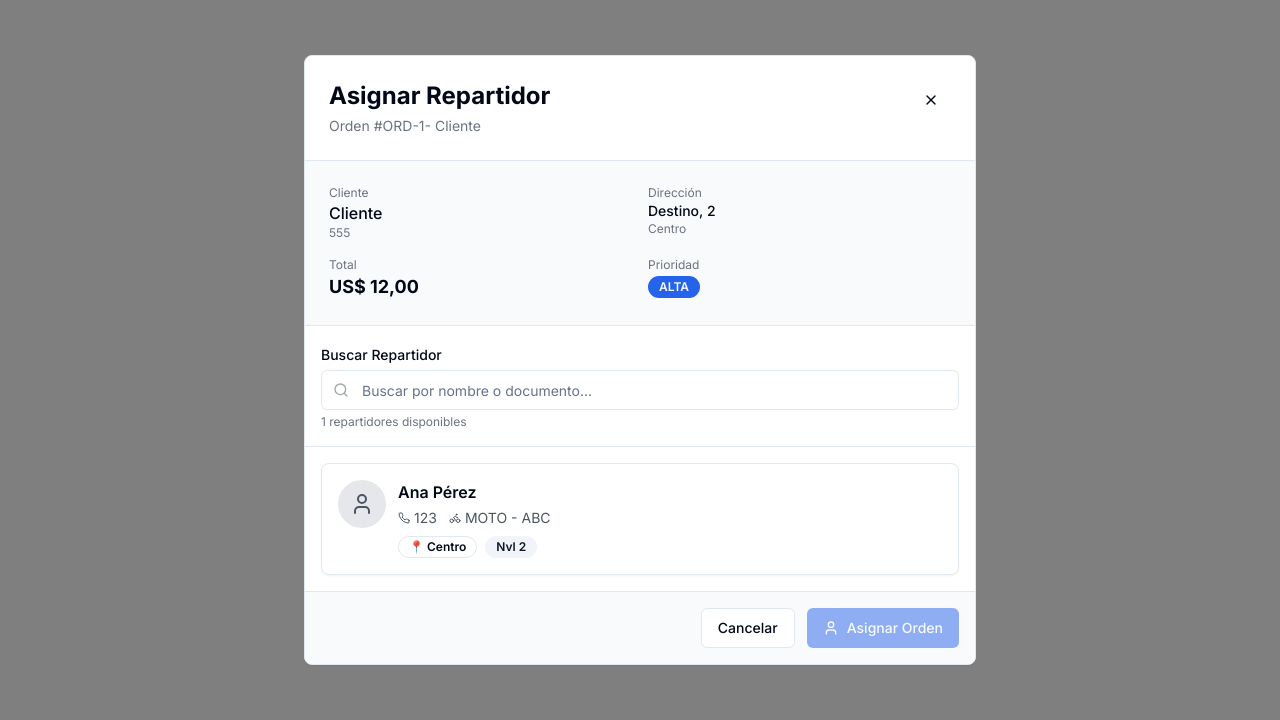
contains a synchronous assignment exception without claiming success
What coordinates should you click on to do the following:
click the button with aria-label "Seleccionar a Ana Pérez"
I would click on:
 (362, 504)
Its box is [321,463,959,575].
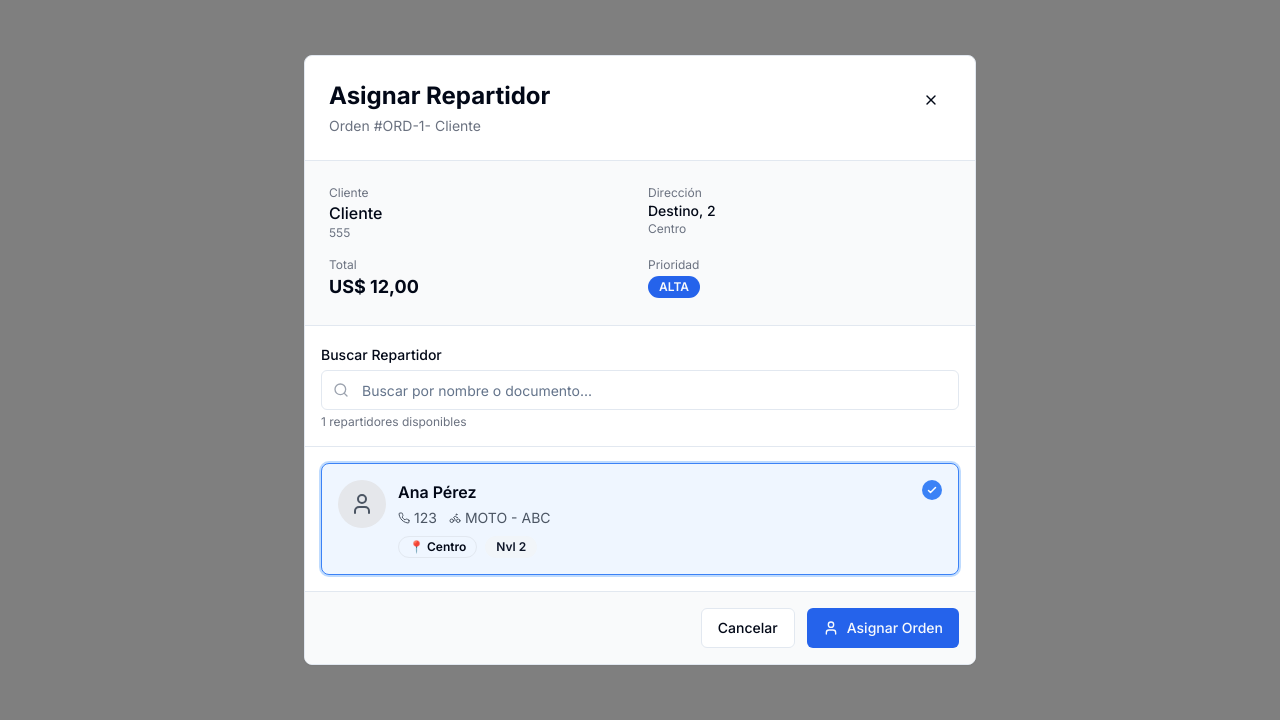
What coordinates should you click on to do the following:
click the button "Asignar Orden"
I would click on:
 (883, 628)
Its box is [807,608,959,648].
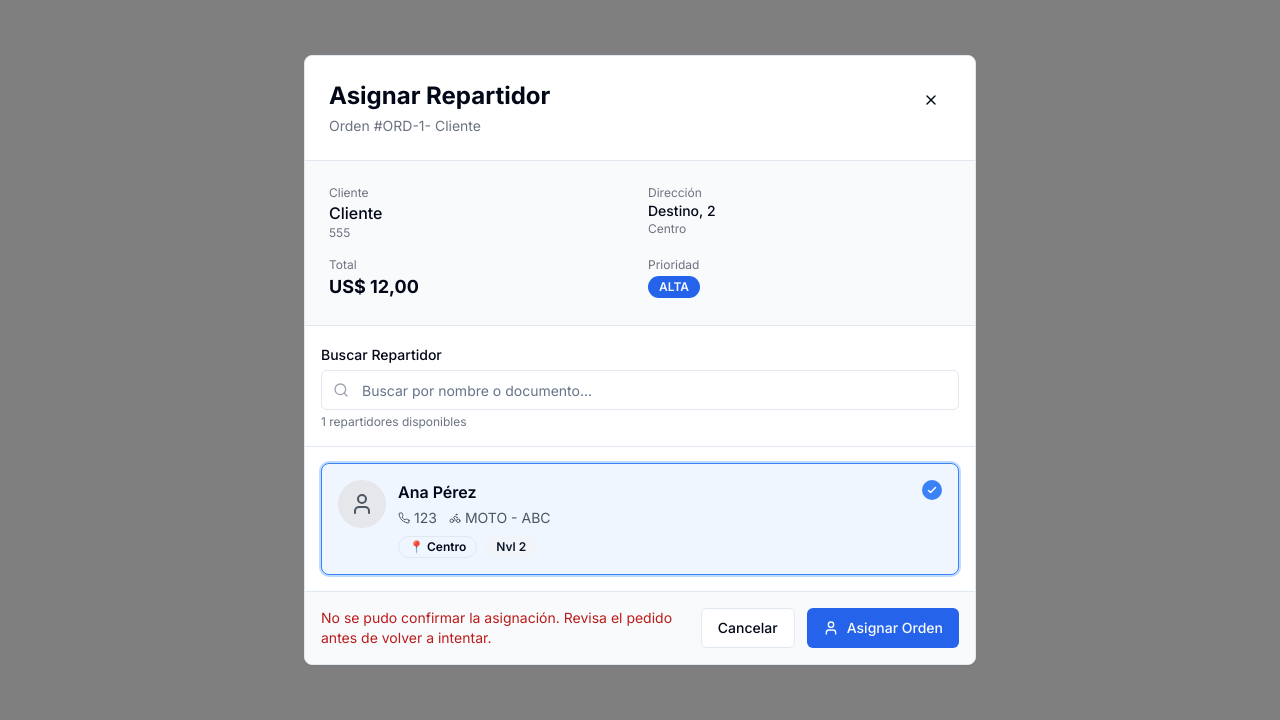
expect the message shows "No se pudo confirmar": met, box [321,609,672,646]
